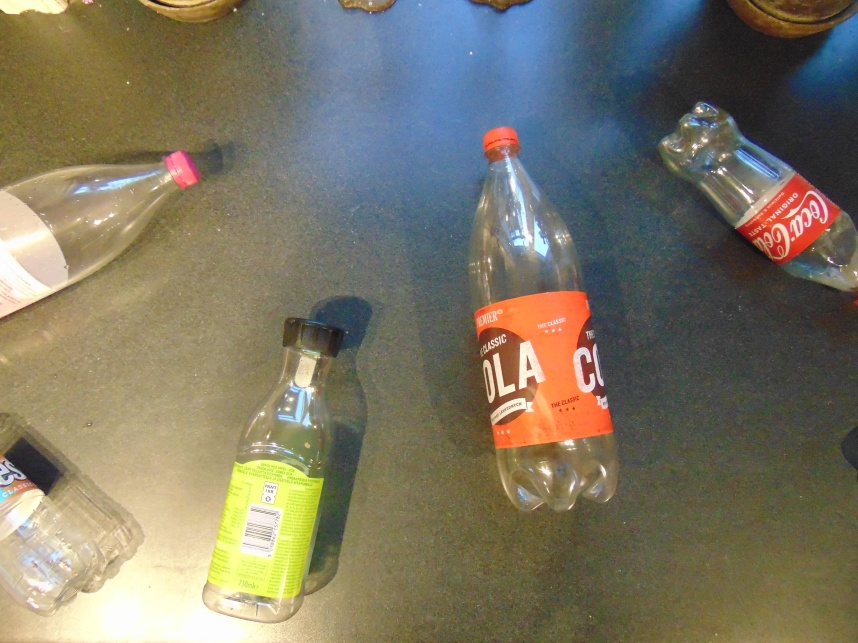plastic_bottle: (462, 123, 622, 511), (199, 319, 352, 625), (653, 97, 858, 295), (1, 149, 197, 324), (1, 442, 90, 614)
